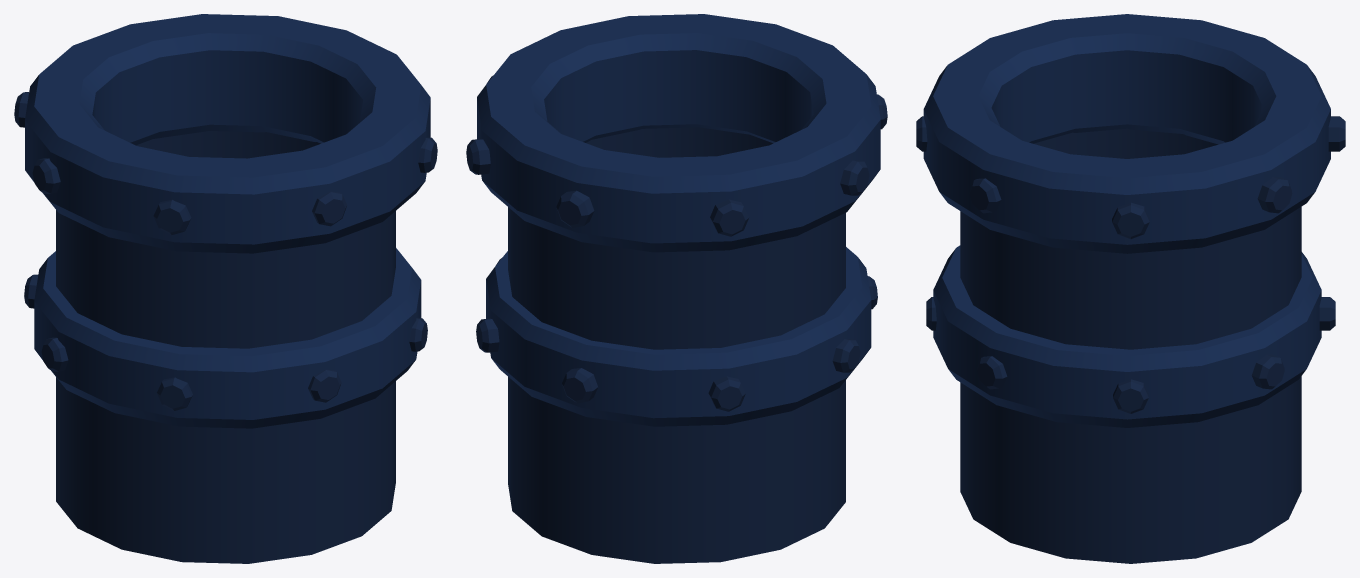
File: Pipe_End.fbx
3 views of the same model, side by side, from view 1: azimuth 30°, elevation 25°; view 2: azimuth 150°, elevation 25°; view 3: azimuth 270°, elevation 25° (orthographic).
Parts seen in each view (by area): view 1: Pipe_End; view 2: Pipe_End; view 3: Pipe_End.
Part boxes in pixels (x1=…): Pipe_End: x1=14, y1=14, x2=437, y2=563; Pipe_End: x1=466, y1=14, x2=887, y2=563; Pipe_End: x1=916, y1=14, x2=1345, y2=563.
Size of the model in its own units: 218 by 222 by 218.
